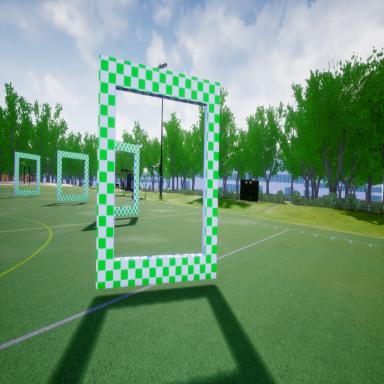gate: (95, 48, 223, 294), (54, 147, 90, 204), (13, 147, 43, 199)
